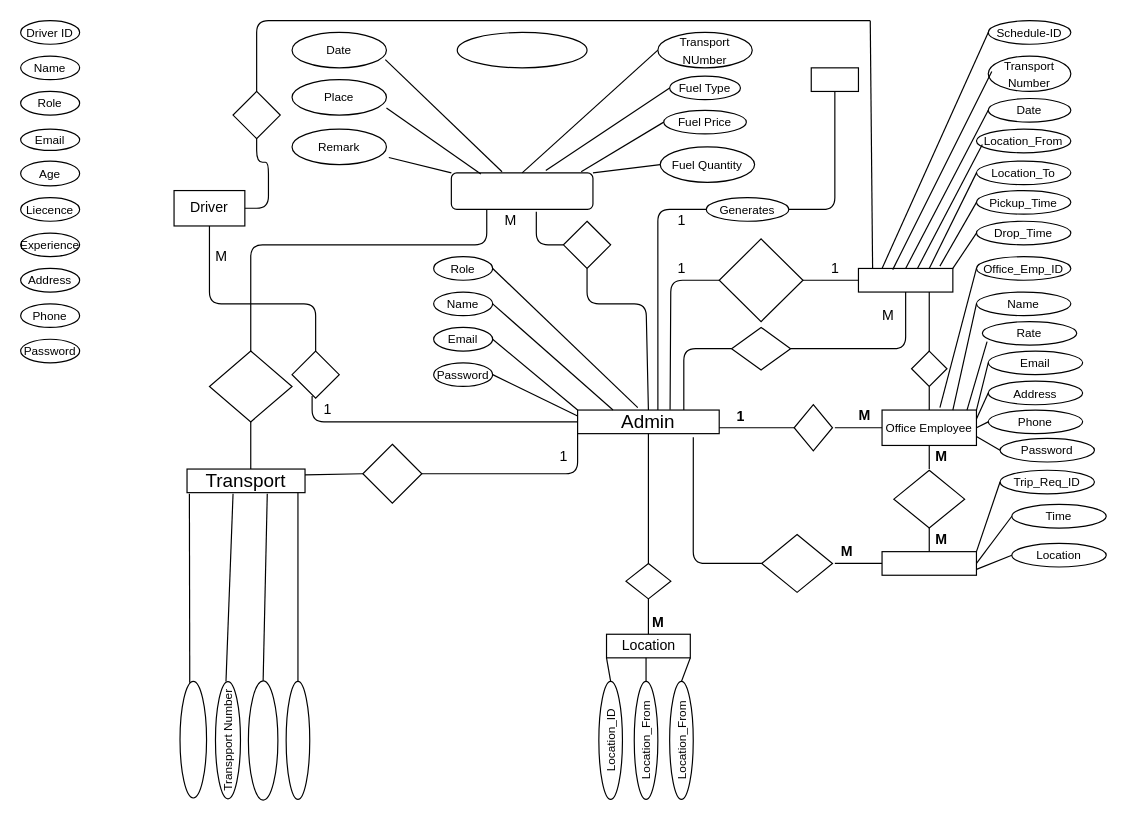
The diagram is 1127 pixels wide and 821 high, and some of its shapes have lost their labels. Each missing label, with the box of its shape:
Appoint: (291, 350, 339, 398)
Arrange: (730, 326, 791, 370)
Calculate From: (208, 350, 292, 422)
Can Handle: (761, 533, 832, 592)
Can Make: (893, 469, 965, 528)
Check Availability: (718, 238, 803, 322)
Do: (562, 220, 611, 268)
Fix: (625, 562, 671, 599)
Fuel Calculation ID: (456, 31, 587, 68)
Fuel Cost Calculation: (450, 172, 593, 209)
Image: (285, 680, 310, 799)
Manage: (362, 443, 422, 503)
Reports: (810, 67, 858, 91)
Schedule: (857, 267, 953, 292)
See: (910, 350, 947, 386)
Transport ID: (179, 680, 207, 798)
Transport Type: (247, 680, 278, 800)
Trip Request: (881, 550, 976, 575)
View: (232, 90, 280, 139)
View List: (793, 404, 832, 451)
